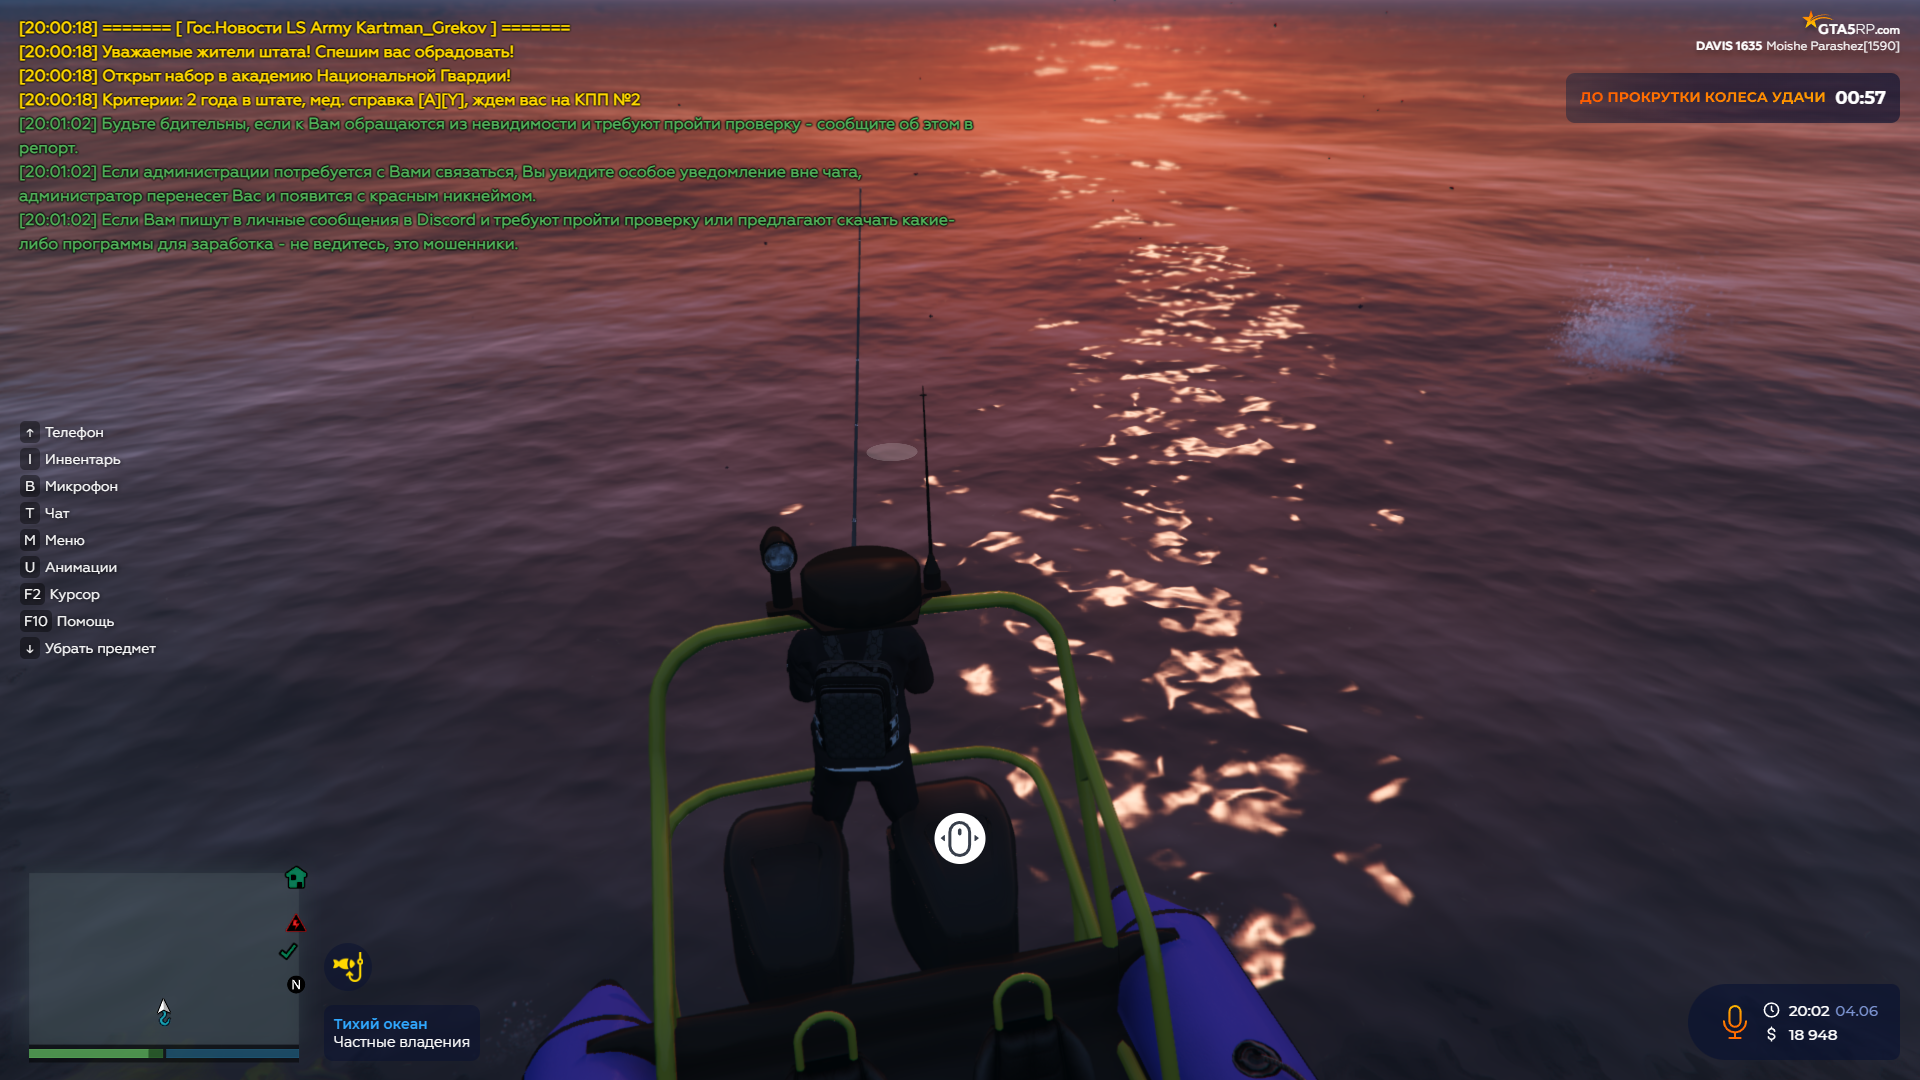circle: (865, 440, 920, 463)
